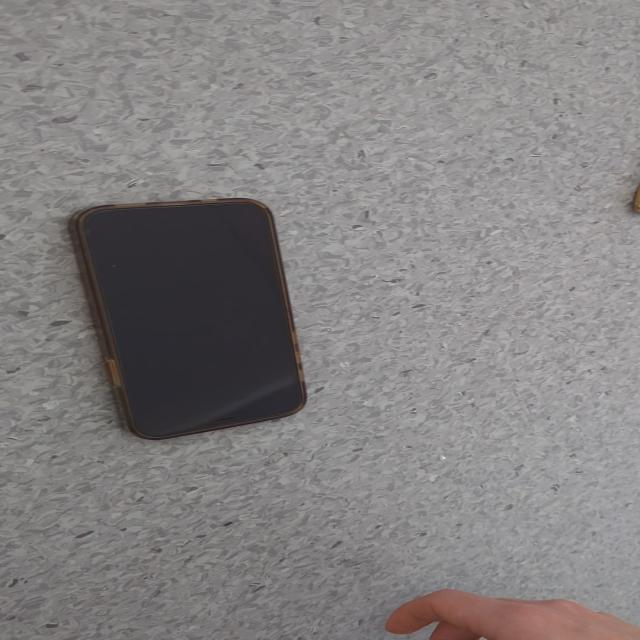phone: (67, 197, 308, 440)
